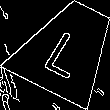L_NE: (40, 19, 96, 78)
